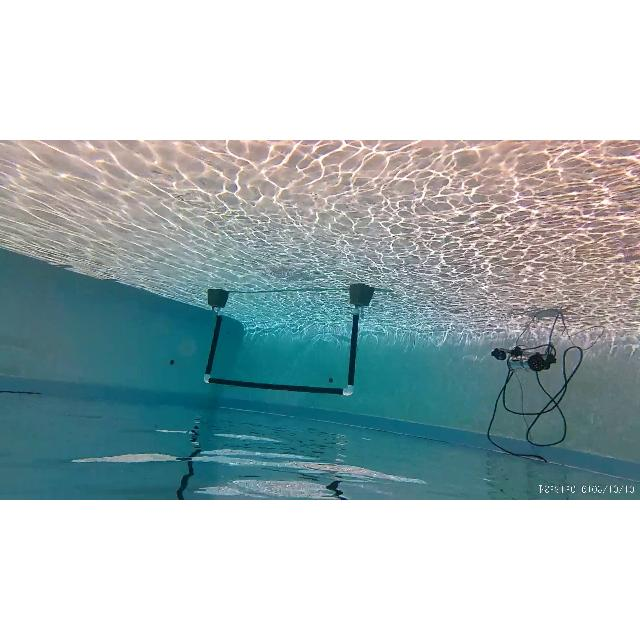prequal gate: (203, 308, 359, 398)
prequal gate leg l: (342, 285, 371, 393)
prequal gate leg r: (201, 286, 223, 382)
